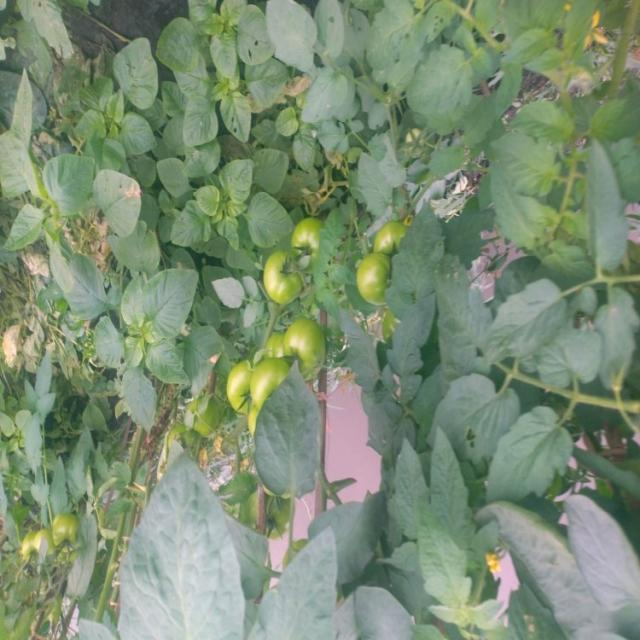tomato: (235, 362, 308, 420), (259, 246, 322, 313), (284, 317, 348, 373), (351, 256, 394, 297), (47, 510, 87, 554), (220, 355, 258, 401), (13, 529, 52, 569), (293, 212, 328, 247), (368, 224, 403, 249)
